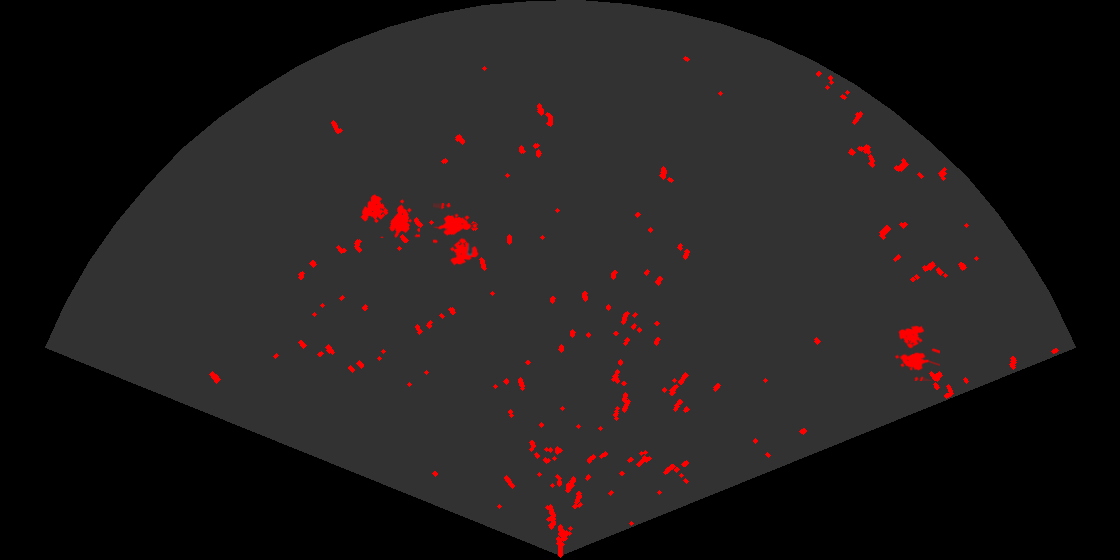cage: (433, 203, 480, 267), (359, 193, 420, 238), (893, 324, 940, 381)
